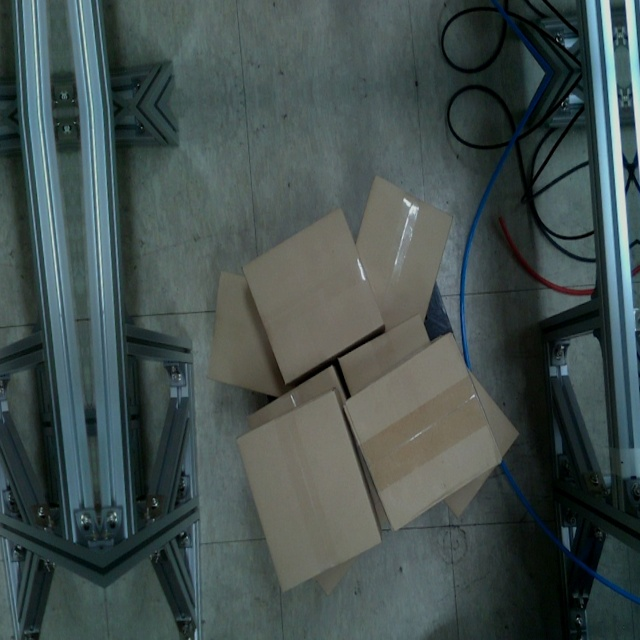box: (343, 333, 503, 531), (234, 389, 384, 592), (242, 206, 384, 385)
